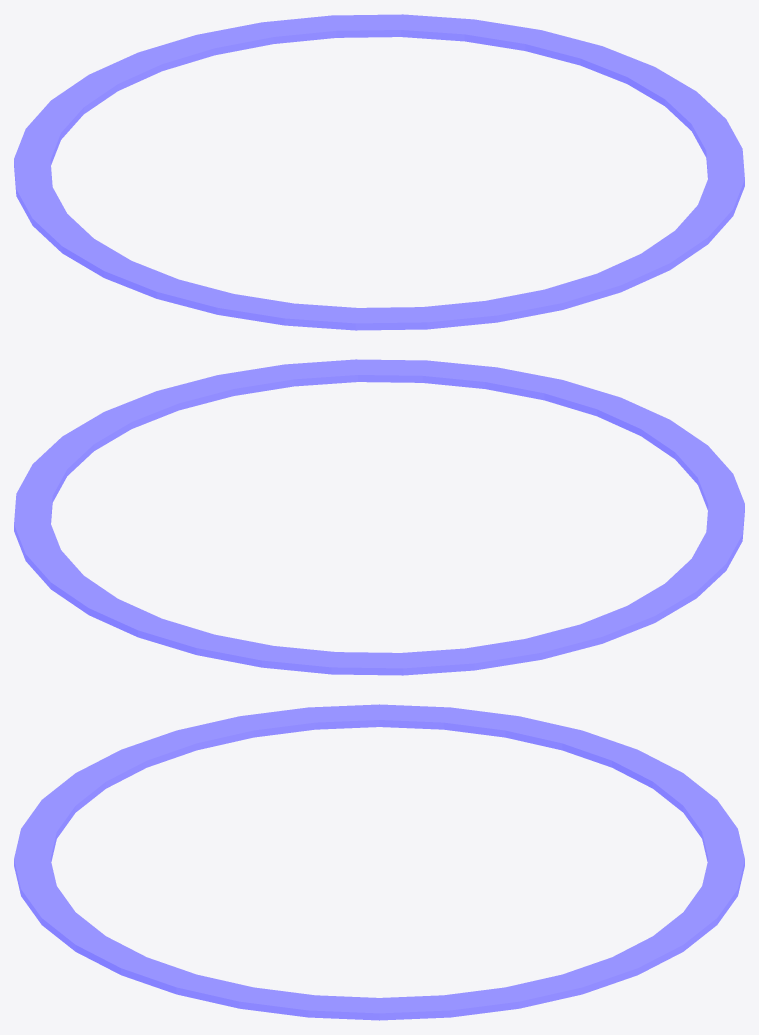
File: ring4.fbx
3 views of the same model, one above another, from view 1: azimuth 30°, elevation 25°; view 2: azimuth 150°, elevation 25°; view 3: azimuth 270°, elevation 25° (orthographic).
Parts seen in each view (by area): view 1: Circle.004; view 2: Circle.004; view 3: Circle.004.
Boxes of the visible parts, x1=… form: Circle.004: x1=14, y1=14, x2=744, y2=330; Circle.004: x1=14, y1=359, x2=744, y2=675; Circle.004: x1=14, y1=704, x2=744, y2=1020.
Bounding box in the file's own units: 164 × 1.75 × 164.
